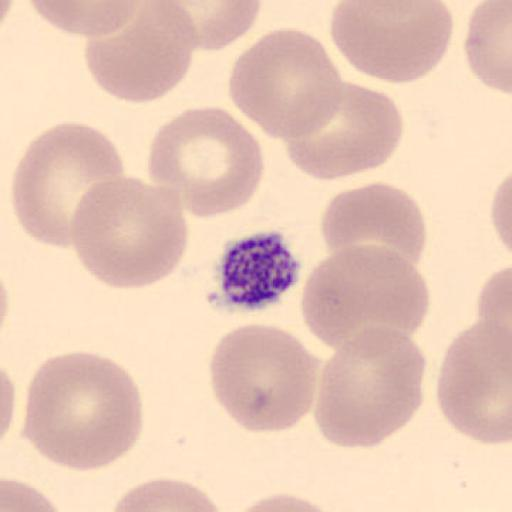Platelet: (205, 227, 304, 315)
RBC: (21, 348, 144, 474), (10, 120, 128, 250), (299, 243, 431, 354), (314, 324, 428, 450), (69, 173, 190, 291), (146, 104, 266, 220), (227, 25, 343, 141), (208, 322, 321, 435), (281, 80, 405, 181), (82, 0, 200, 104), (329, 0, 455, 86), (320, 181, 428, 275), (436, 319, 512, 446), (300, 246, 381, 352), (166, 0, 262, 52), (463, 0, 512, 97), (25, 0, 141, 38), (109, 476, 226, 512), (475, 262, 512, 362), (230, 491, 346, 512), (2, 475, 66, 512), (490, 169, 512, 259), (0, 364, 17, 440), (0, 0, 21, 38)
